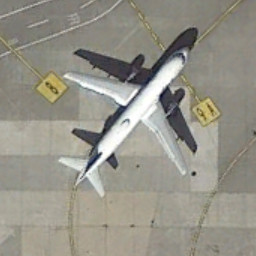Airplane: (56, 35, 195, 200)
